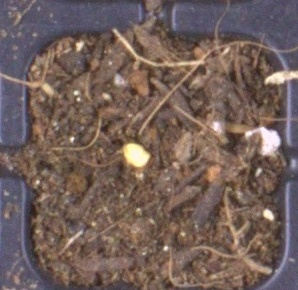chilli seed: (121, 142, 151, 168)
